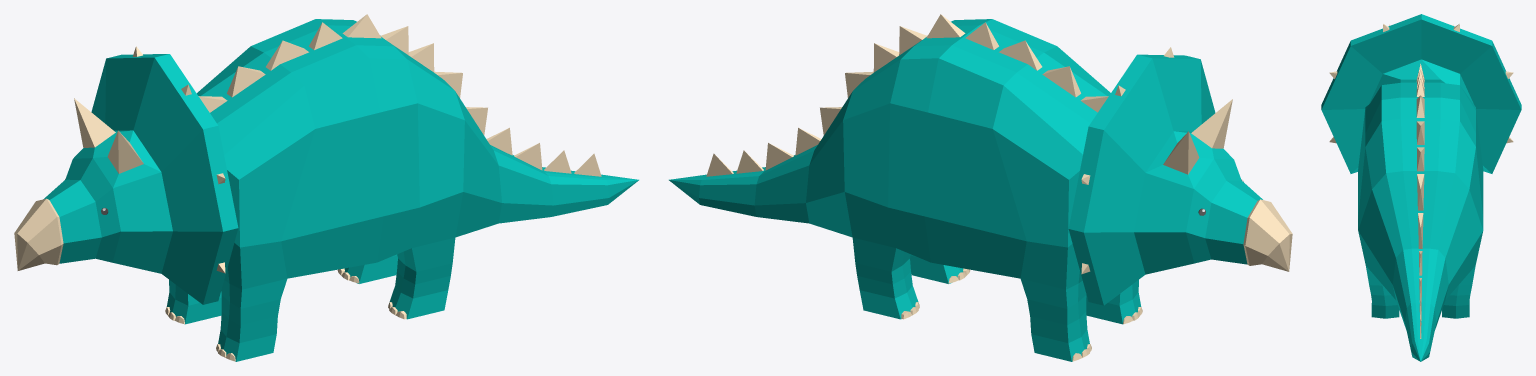
Rendered from dino_skeleton.glb.
3 views of the same model, side by side, from view 1: azimuth 30°, elevation 25°; view 2: azimuth 150°, elevation 25°; view 3: azimuth 270°, elevation 25° (orthographic). The views are drawn at different scales.
Parts seen in each view (by area): view 1: Cube.039; view 2: Cube.039; view 3: Cube.039.
Boxes of the visible parts, x1,y1,x2,y2 form: Cube.039: (14, 14, 638, 361); Cube.039: (669, 14, 1292, 361); Cube.039: (1321, 14, 1521, 361).
Size of the model in its own units: 424 by 189 by 162.
